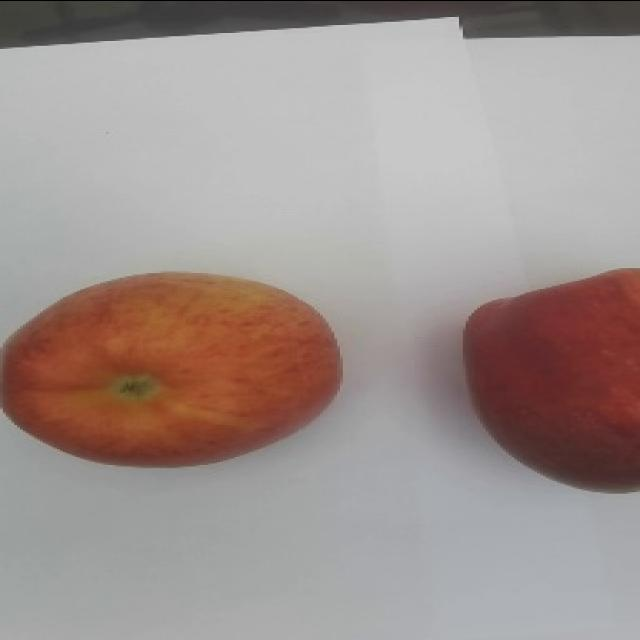Apple: (1, 269, 342, 468), (461, 266, 639, 494)
